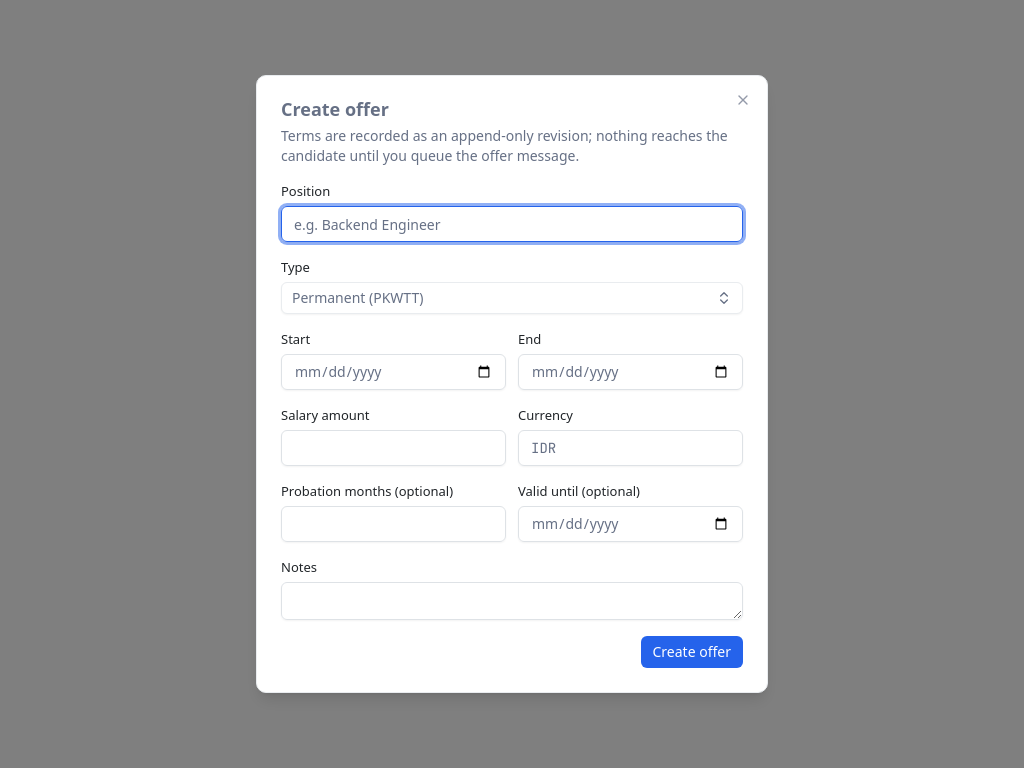
Test: OfferFormDialog › requires position, start date, and a valid salary -- and no actor
Click the button "Create offer".
click(692, 652)  # box [640, 636, 743, 668]
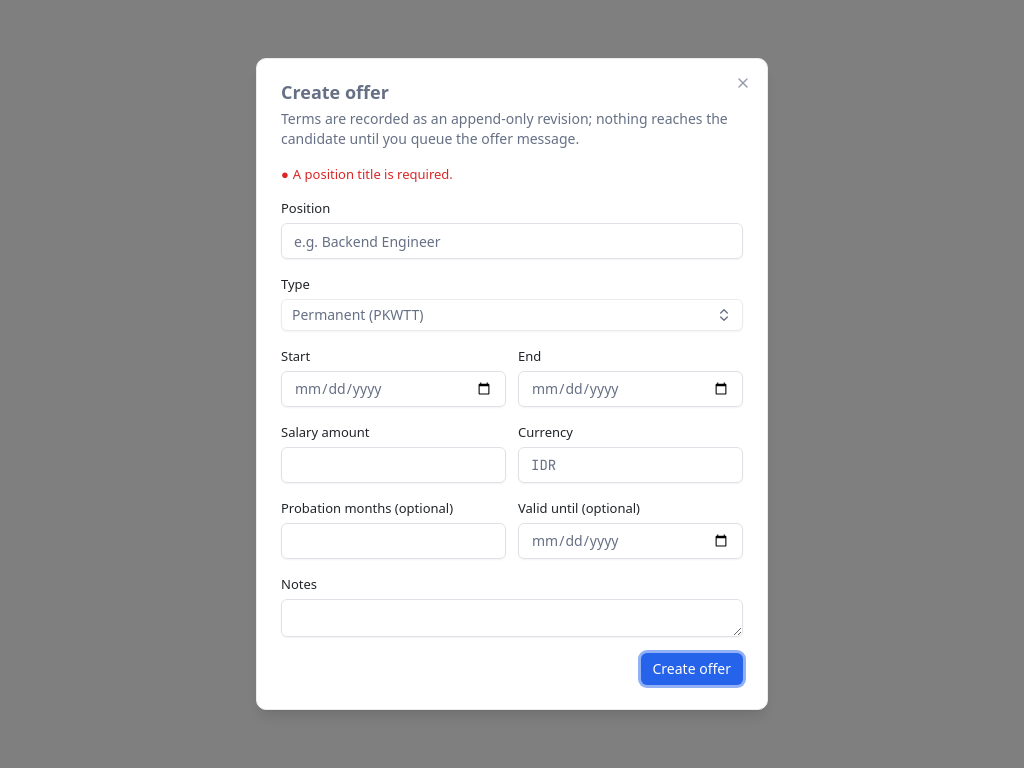
Check: the text "A position title is required." is shown, box [293, 165, 453, 183]
